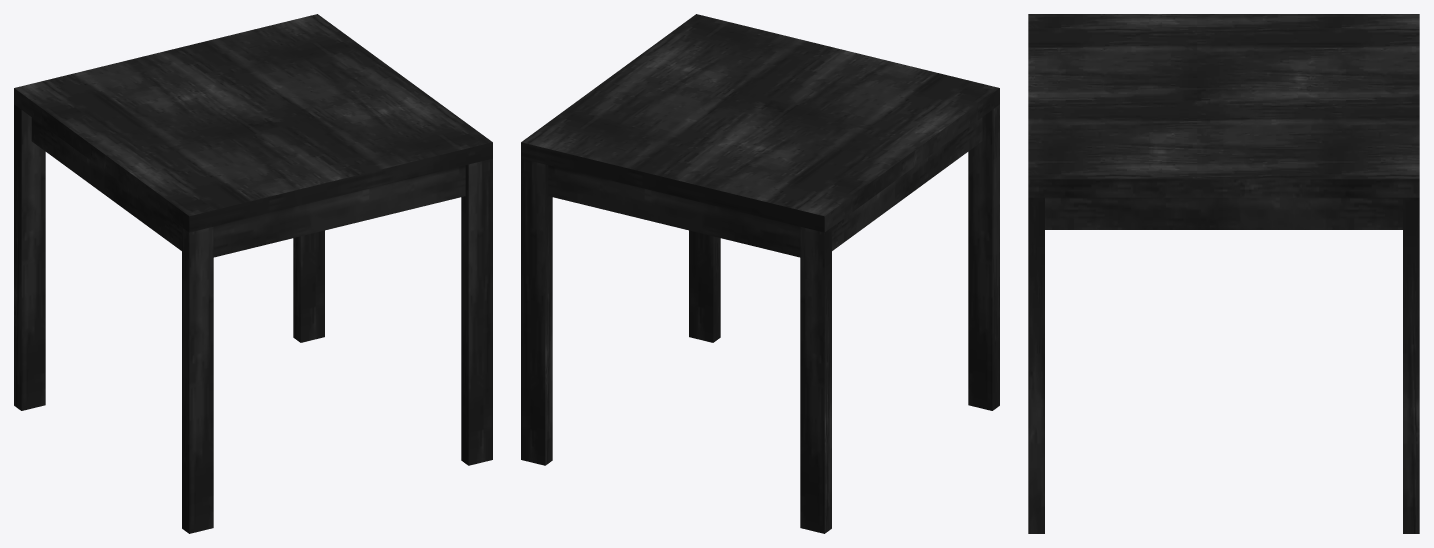
Rendered from sh-scopia-black-table.glb.
3 renders of one model, left to right at view 1: azimuth 30°, elevation 25°; view 2: azimuth 150°, elevation 25°; view 3: azimuth 270°, elevation 25°, orthographic. The views are drawn at different scales.
Parts seen in each view (by area): view 1: fusta_taula_wood_bump_fusta_taula_wood_bump_fusta_taula_wood; view 2: fusta_taula_wood_bump_fusta_taula_wood_bump_fusta_taula_wood; view 3: fusta_taula_wood_bump_fusta_taula_wood_bump_fusta_taula_wood.
Part boxes in pixels (x1,y1,x2,y2): fusta_taula_wood_bump_fusta_taula_wood_bump_fusta_taula_wood: (14,14,492,533); fusta_taula_wood_bump_fusta_taula_wood_bump_fusta_taula_wood: (521,14,999,533); fusta_taula_wood_bump_fusta_taula_wood_bump_fusta_taula_wood: (1028,14,1419,533).
Size of the model in its own units: 1 by 1 by 1.
1 material, 1 textured.
